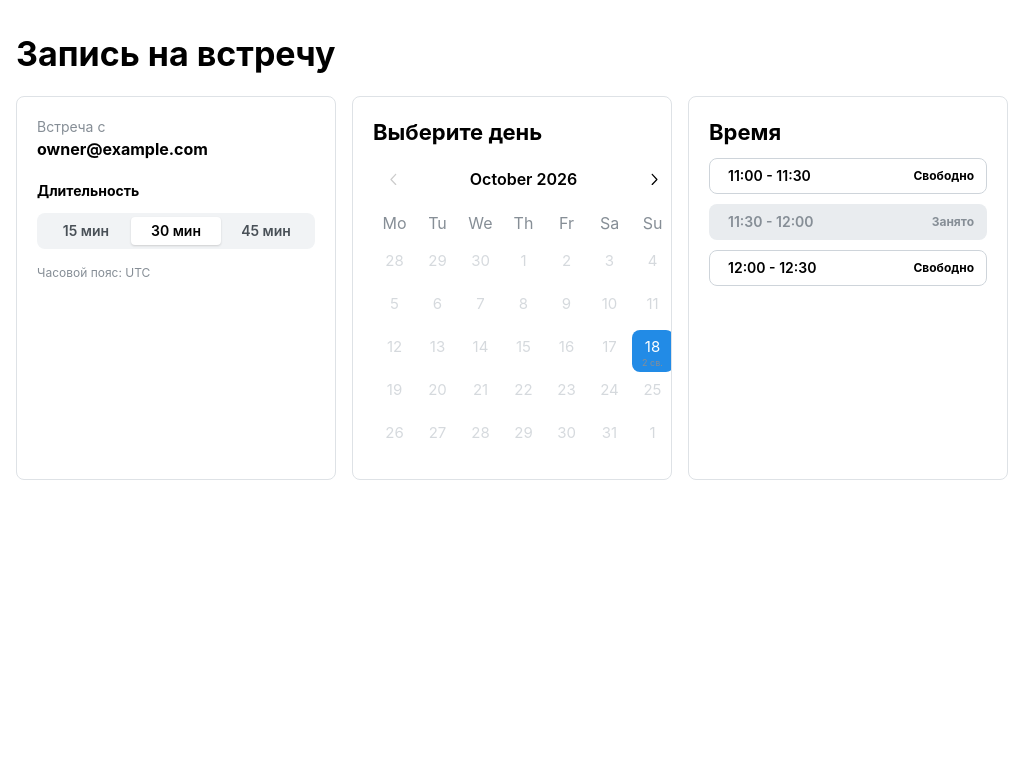
гостевая страница: календарь владельца › выбор слота открывает форму, успешная бронь — подтверждение
This screenshot has width=1024, height=768.
Click the button "11:00 - 11:30 Свободно": (769, 175) [709,158,987,194]
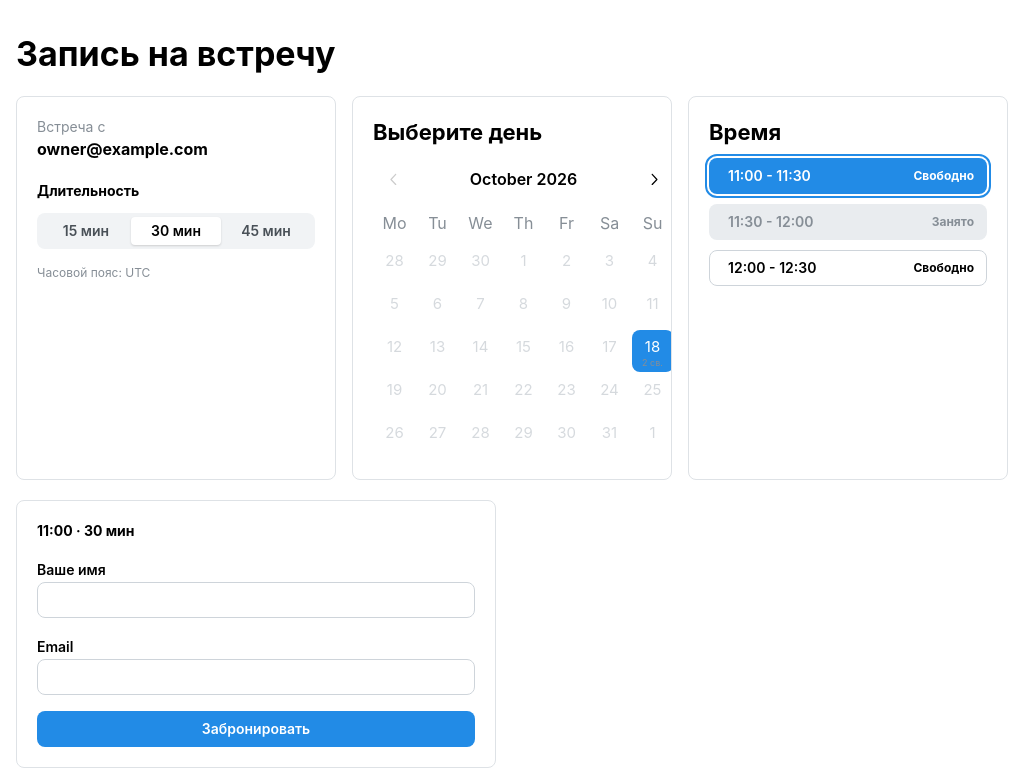
In the field labelled "Ваше имя": (256, 600) [37,582,475,618], type "Гость"
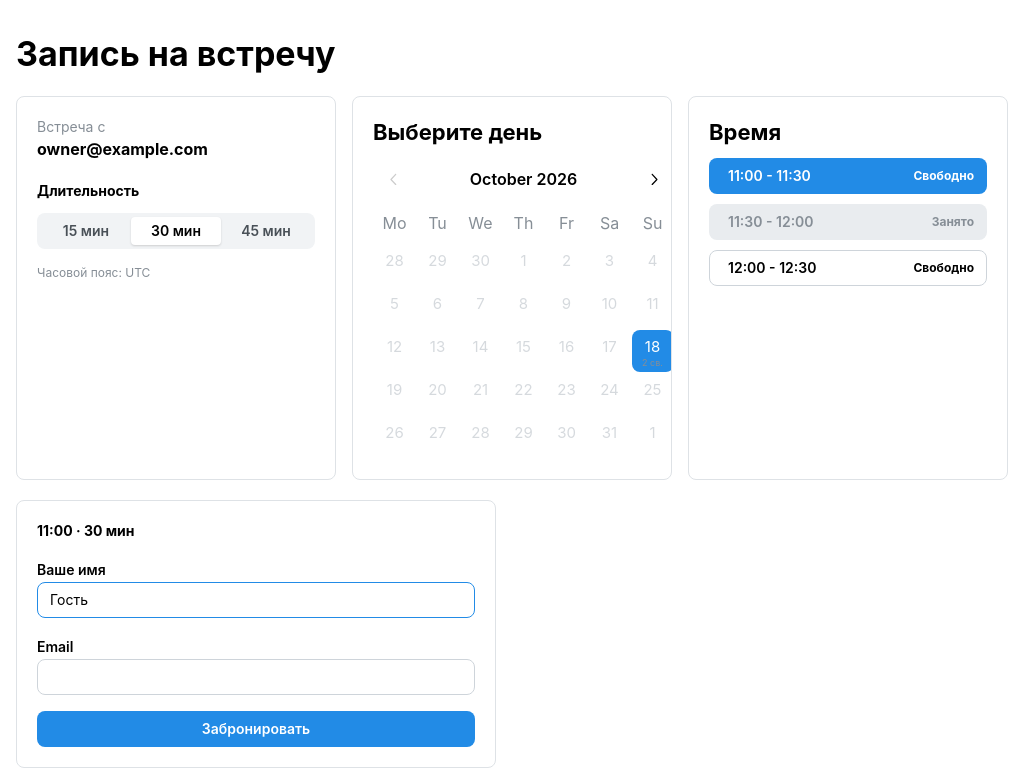
In the field labelled "Email": (256, 677) [37,659,475,695], type "guest@example.com"
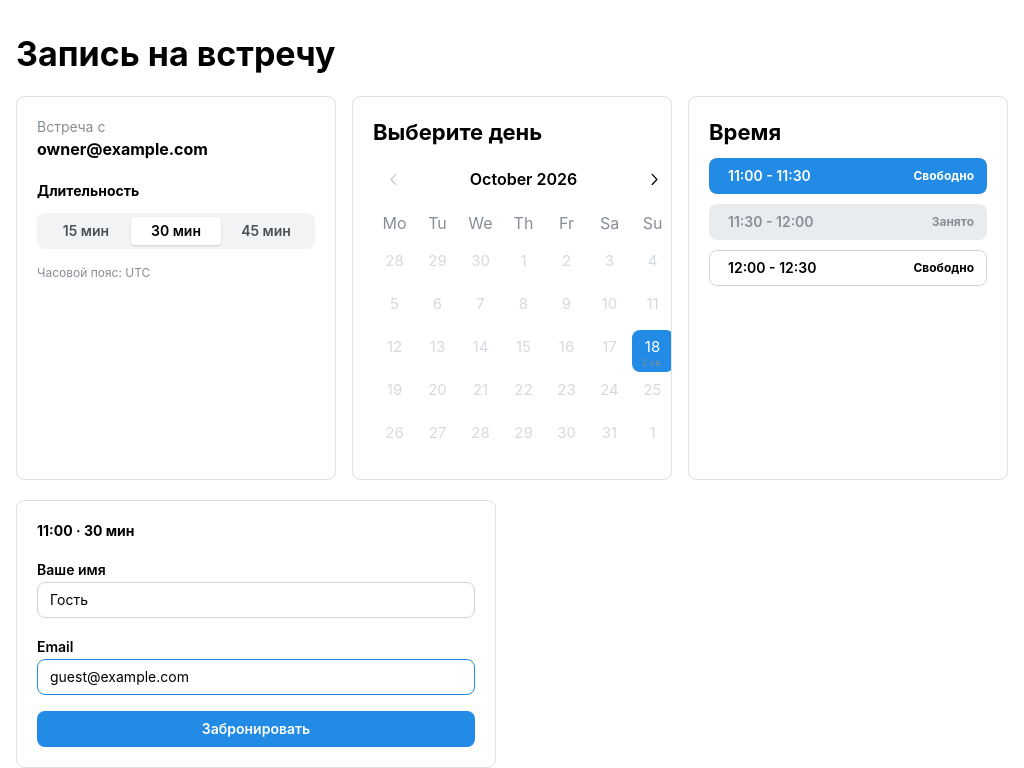
Click the button "Забронировать": (256, 729) [37,711,475,747]
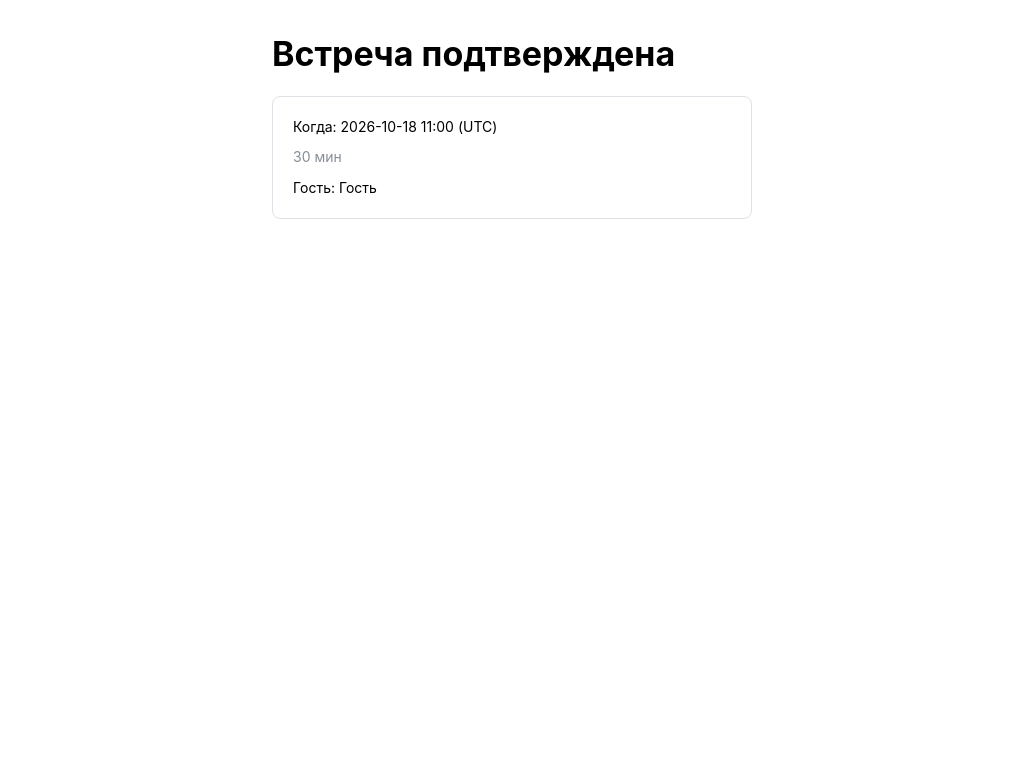
Check: the heading "Встреча подтверждена" is shown, box [272,33,675,74]
Check: the text "Гость: Гость" is shown, box [293,179,377,196]
